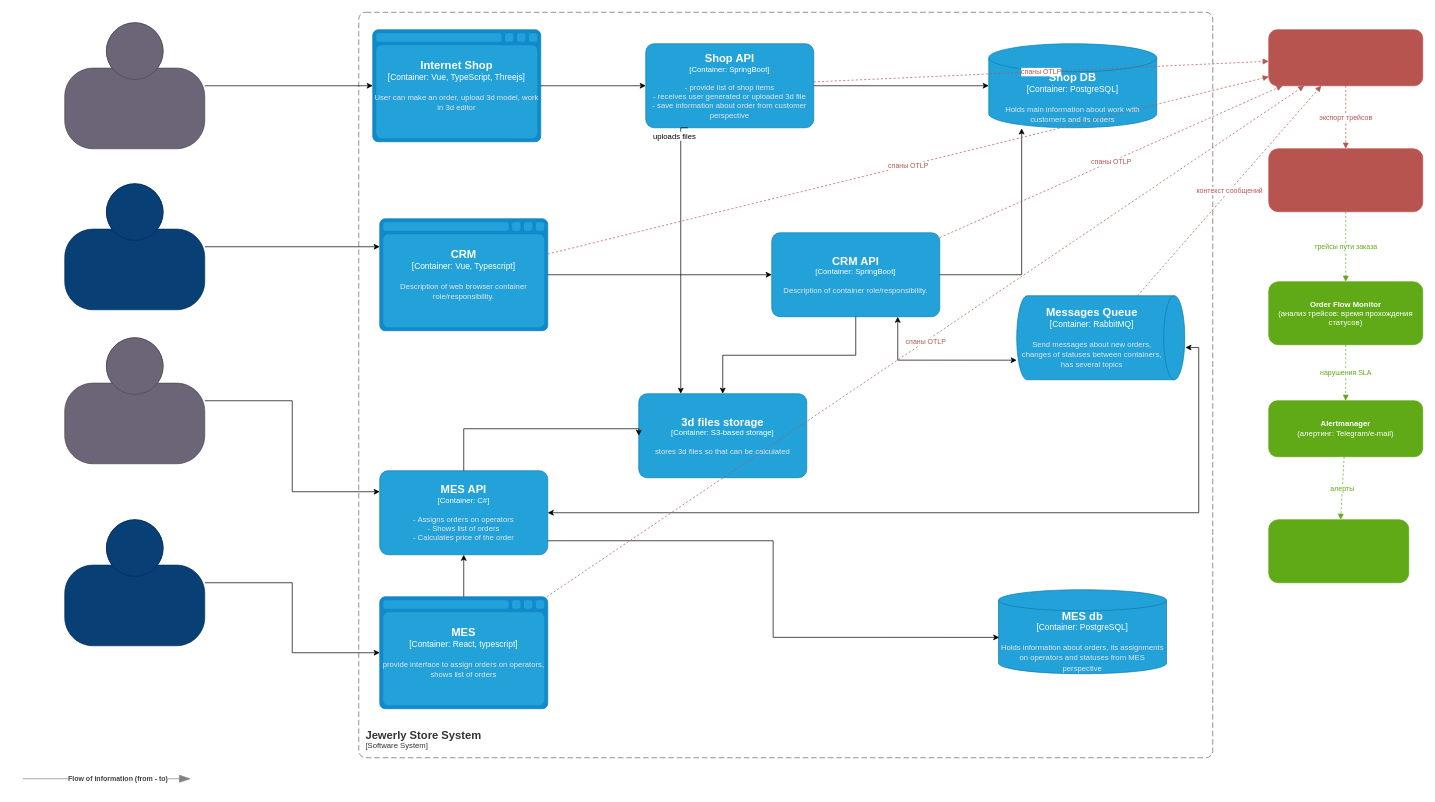
This 1435x802 diagram has some shape labels left out. The shapes that lost their labels are listed below. From the top down, each one's centre as x and y in pixels, then its label:
the point at 1345,57: OpenTelemetry Collector (OTel-коллектор: приём и батчинг спанов)
the point at 134,85: Customer [Person] Description of external person.
the point at 1345,180: Jaeger (Jaeger: хранение трейсов + Jaeger-UI)
the point at 134,246: Seller [Person] Operates with order, confirms manufacturing for the user
the point at 134,400: API user [Person] Description of external person.
the point at 1338,551: Дежурный инженер (on-call) (дежурная смена)
the point at 134,582: Operator [Person] Takes order in work, manufactures jewerly
